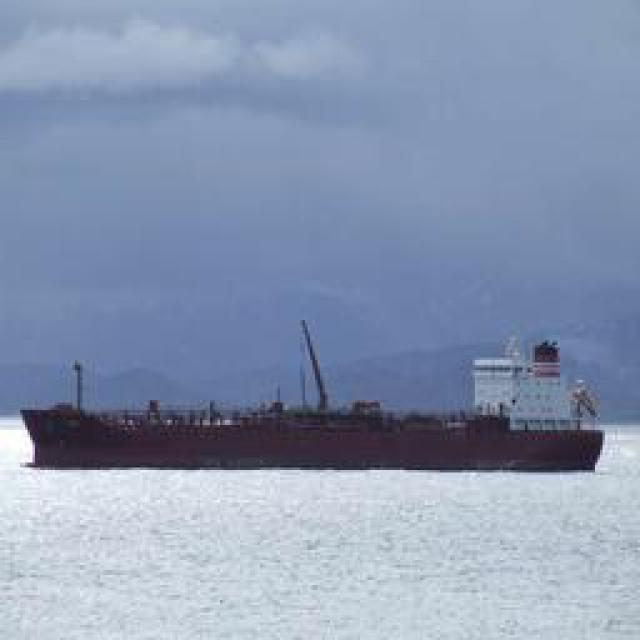Ship: (21, 362, 621, 472)
